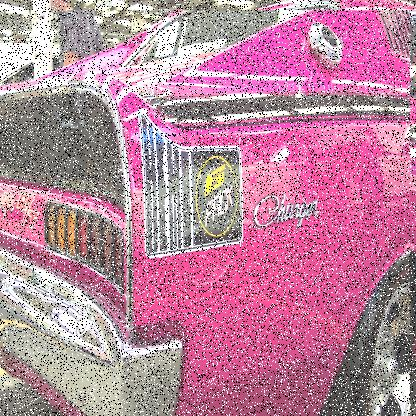Car: (0, 10, 411, 416)
